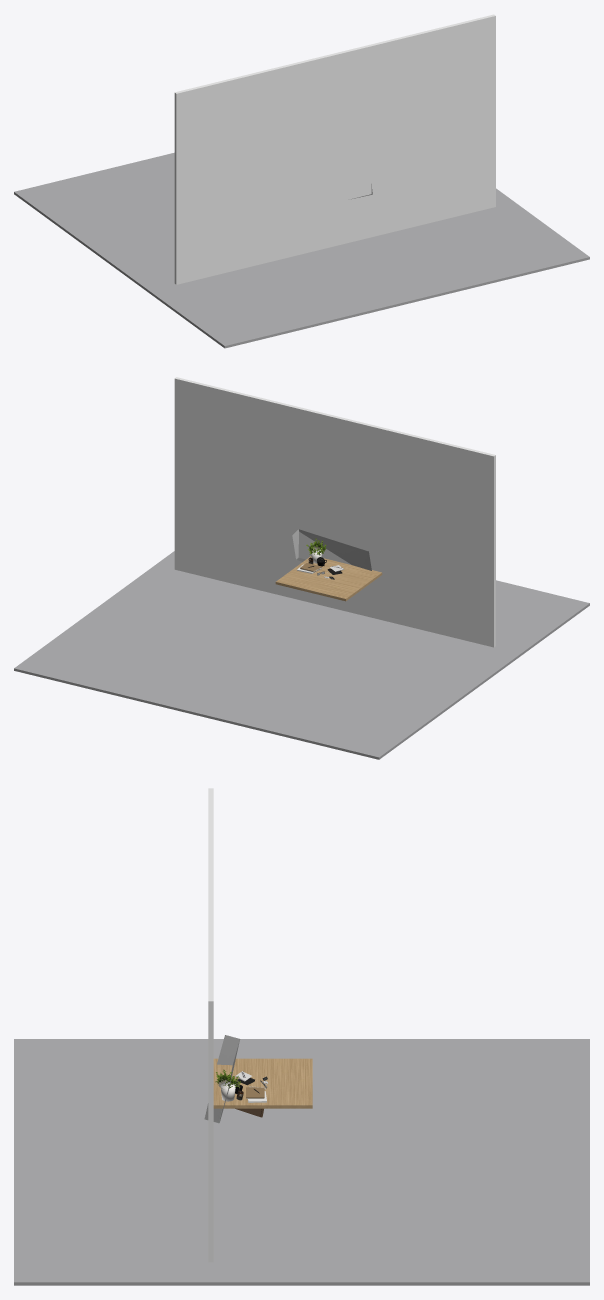
Rendered from viga.glb.
The picture shows the model from 3 angles, top to bottom: view 1: azimuth 30°, elevation 25°; view 2: azimuth 150°, elevation 25°; view 3: azimuth 270°, elevation 25°; orthographic projection. The views are drawn at different scales.
Visible parts, largest first — view 1: BackWall, Floor; view 2: BackWall, Floor, DeskTop, white_wall_mesh; view 3: Floor, DeskTop, BackWall, white_wall_mesh.
Boxes of the visible parts, bbox=[...] form: BackWall: bbox=[174, 14, 495, 284]; Floor: bbox=[14, 152, 589, 348]; BackWall: bbox=[174, 377, 495, 647]; Floor: bbox=[14, 551, 589, 759]; DeskTop: bbox=[275, 556, 382, 601]; white_wall_mesh: bbox=[292, 529, 371, 570]; Floor: bbox=[14, 1039, 589, 1285]; DeskTop: bbox=[213, 1058, 312, 1108]; BackWall: bbox=[208, 788, 213, 1262]; white_wall_mesh: bbox=[204, 1035, 239, 1123].
Bounding box in the file's own units: 16 × 8.25 × 16.
22 materials, 12 textured.
